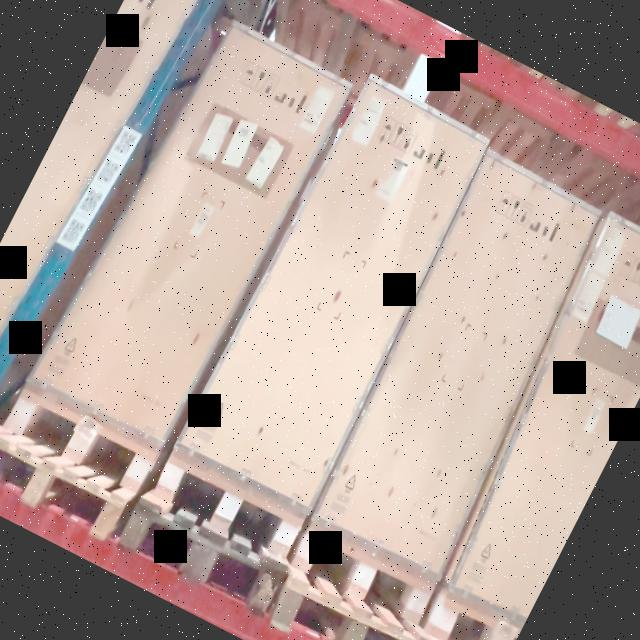box: (187, 77, 493, 503), (50, 24, 348, 440), (314, 161, 602, 572)
